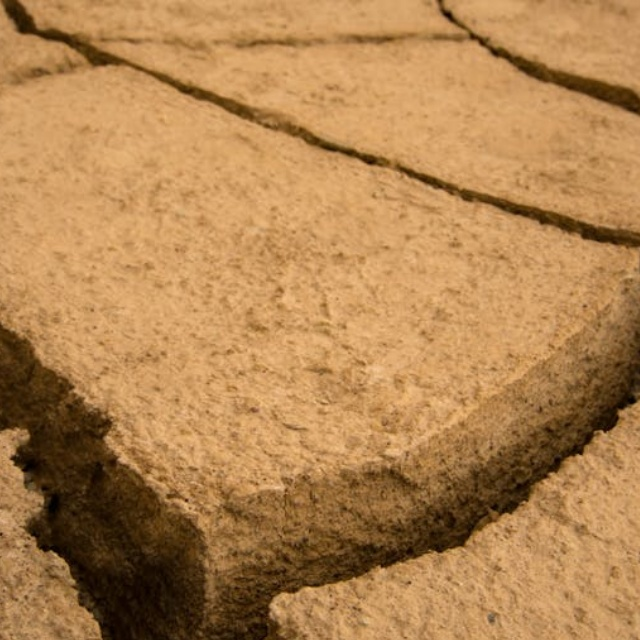深大裂缝: (0, 140, 640, 640)
细微裂纹: (0, 0, 640, 226)
